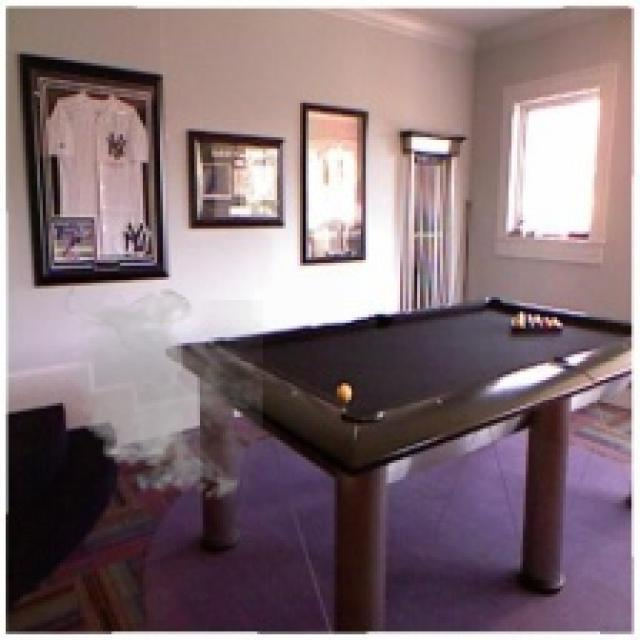Smoke: (57, 286, 263, 506)
